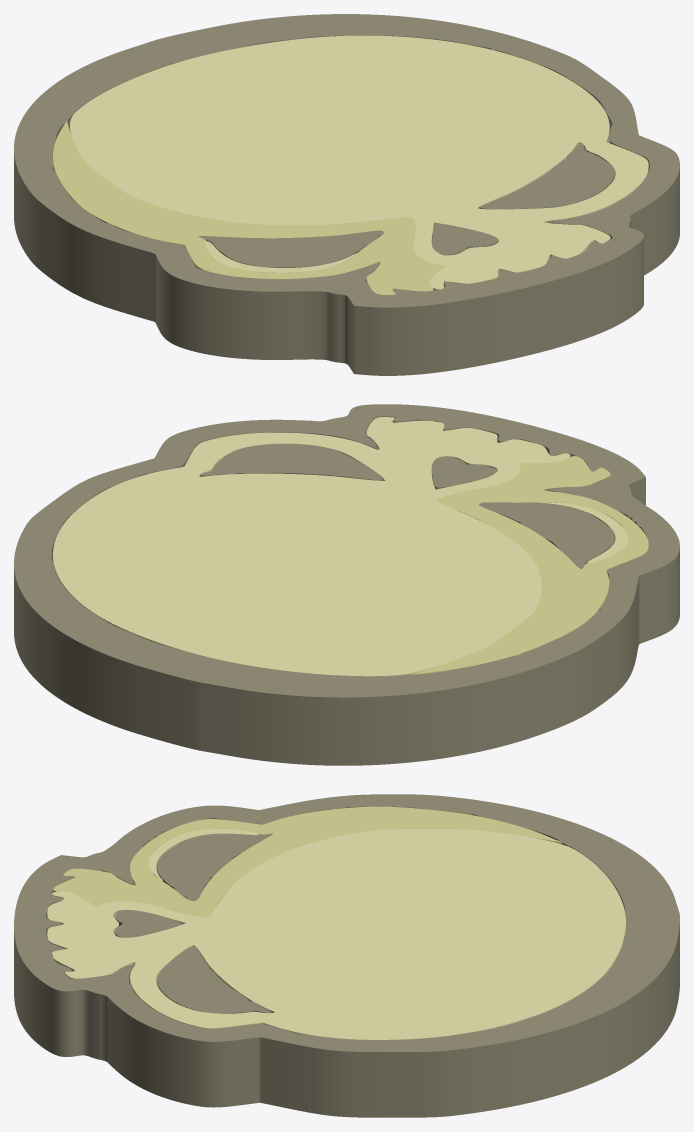
File: Boost_0.fbx
3 views of the same model, one above another, from view 1: azimuth 30°, elevation 25°; view 2: azimuth 150°, elevation 25°; view 3: azimuth 270°, elevation 25° (orthographic). The views are drawn at different scales.
Visible parts, largest first — view 1: imagetostl_mesh1, imagetostl_mesh4, imagetostl_mesh5, imagetostl_mesh13, imagetostl_mesh7, imagetostl_mesh9, imagetostl_mesh11, imagetostl_mesh3, imagetostl_mesh0; view 2: imagetostl_mesh1, imagetostl_mesh4, imagetostl_mesh5, imagetostl_mesh13, imagetostl_mesh7, imagetostl_mesh9, imagetostl_mesh11, imagetostl_mesh3, imagetostl_mesh0; view 3: imagetostl_mesh1, imagetostl_mesh4, imagetostl_mesh5, imagetostl_mesh13, imagetostl_mesh7, imagetostl_mesh9, imagetostl_mesh11, imagetostl_mesh0, imagetostl_mesh3.
Part boxes in pixels (bbox=[...]): imagetostl_mesh1: bbox=[70, 35, 648, 289]; imagetostl_mesh4: bbox=[14, 35, 679, 375]; imagetostl_mesh5: bbox=[14, 14, 679, 307]; imagetostl_mesh13: bbox=[53, 121, 446, 294]; imagetostl_mesh7: bbox=[198, 230, 383, 267]; imagetostl_mesh9: bbox=[479, 143, 614, 209]; imagetostl_mesh11: bbox=[431, 224, 497, 254]; imagetostl_mesh3: bbox=[205, 241, 359, 272]; imagetostl_mesh0: bbox=[70, 129, 648, 290]; imagetostl_mesh1: bbox=[53, 417, 570, 676]; imagetostl_mesh4: bbox=[14, 416, 679, 765]; imagetostl_mesh5: bbox=[14, 404, 679, 697]; imagetostl_mesh13: bbox=[412, 456, 648, 674]; imagetostl_mesh7: bbox=[479, 502, 614, 568]; imagetostl_mesh9: bbox=[200, 444, 382, 480]; imagetostl_mesh11: bbox=[432, 456, 497, 487]; imagetostl_mesh3: bbox=[535, 502, 627, 563]; imagetostl_mesh0: bbox=[53, 419, 570, 676]; imagetostl_mesh1: bbox=[47, 829, 625, 1039]; imagetostl_mesh4: bbox=[14, 806, 679, 1117]; imagetostl_mesh5: bbox=[14, 794, 679, 1051]; imagetostl_mesh13: bbox=[53, 806, 561, 917]; imagetostl_mesh7: bbox=[157, 833, 272, 900]; imagetostl_mesh9: bbox=[157, 946, 270, 1013]; imagetostl_mesh11: bbox=[115, 910, 181, 937]; imagetostl_mesh0: bbox=[47, 894, 625, 1040]; imagetostl_mesh3: bbox=[148, 828, 258, 882].
Size of the model in its own units: 8427 by 1000 by 9198.
